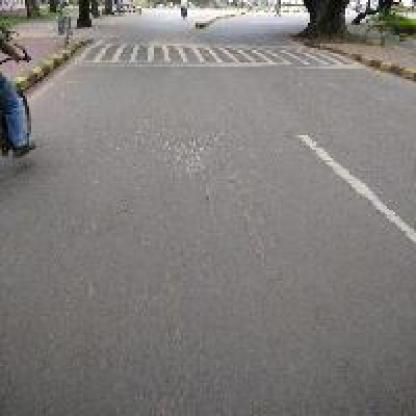Speed Bump: (75, 44, 326, 60)
